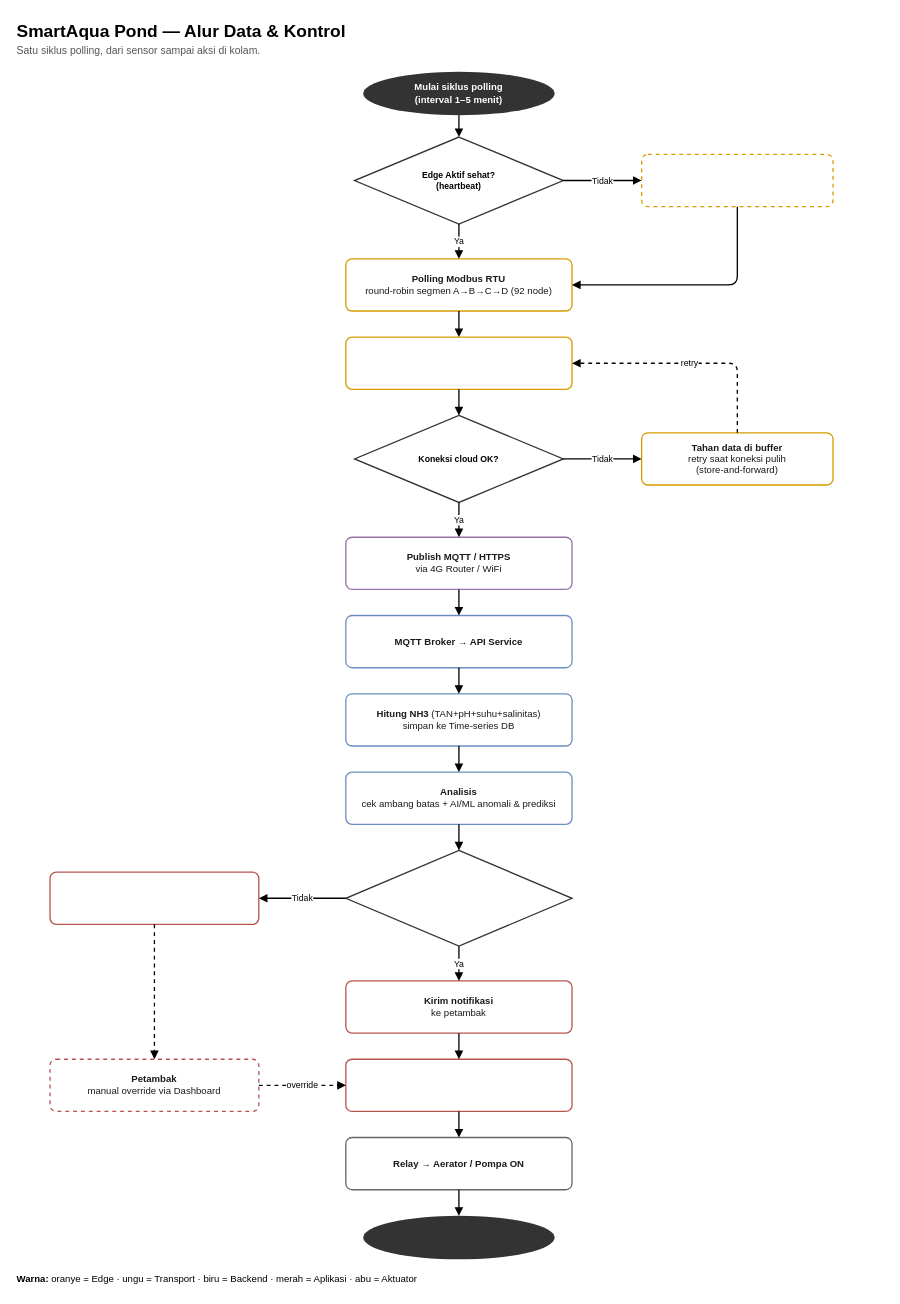
Some shapes in this 900 by 1304 pixel diagram are drawn without their labels. The centre of each missing label's shape, as x and y in pixels:
"Ambang batas terlampaui / anomali terdeteksi?" goes at [458,897].
"Dashboard tampilkan real-time & histori" goes at [154,898].
"Edge Cadangan ambil alih polling" goes at [737,180].
"Modul Kontrol Otomatis" goes at [458,1085].
"Siklus berikutnya" goes at [458,1237].
"Simpan ke buffer lokal di Edge Unit" goes at [458,363].
